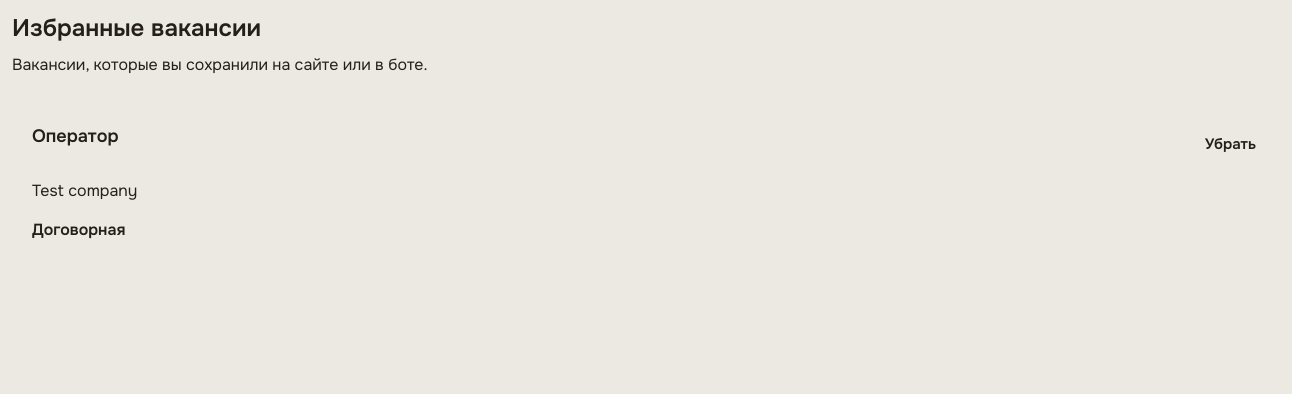
Test: failed removal retains the bookmark; pending duplicate clicks do not send another write
Expected: the link "Оператор" is shown, [32,125,118,147]
Click the button with aria-label "Убрать из избранного: Оператор".
click(1230, 144)  # box [1189,122,1272,166]
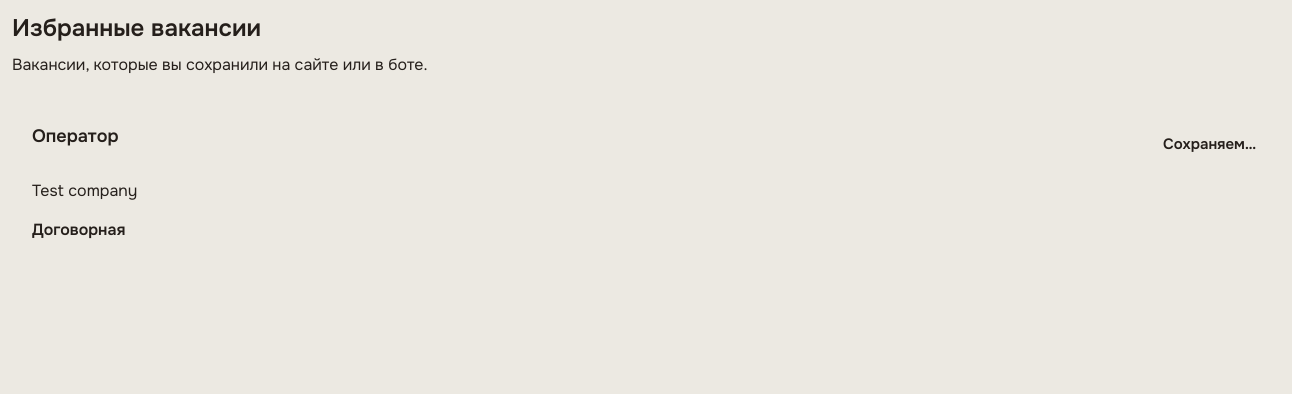
Click the button with aria-label "Убрать из избранного: Оператор".
click(1210, 144)  # box [1147,122,1272,166]
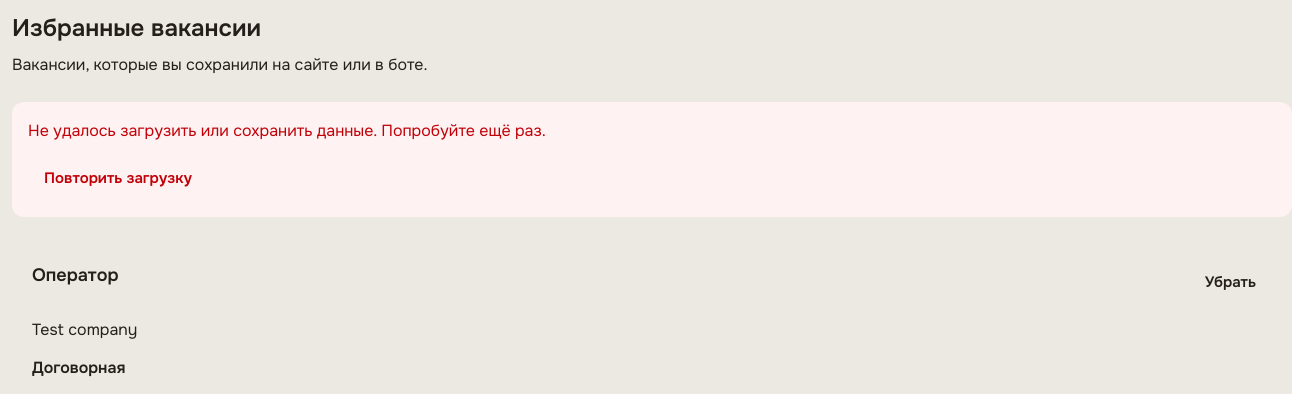
Expected: the link "Оператор" is shown, [32,264,118,286]
Click the button with aria-label "Убрать из избранного: Оператор".
click(1230, 283)  # box [1189,261,1272,305]
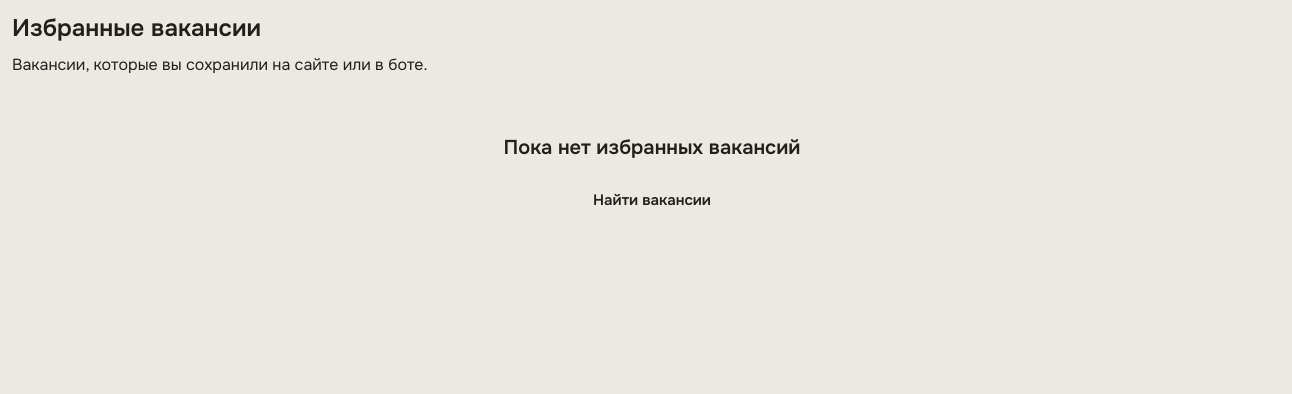
Now the heading "Пока нет избранных вакансий" is shown, box [504,135,800,160]
